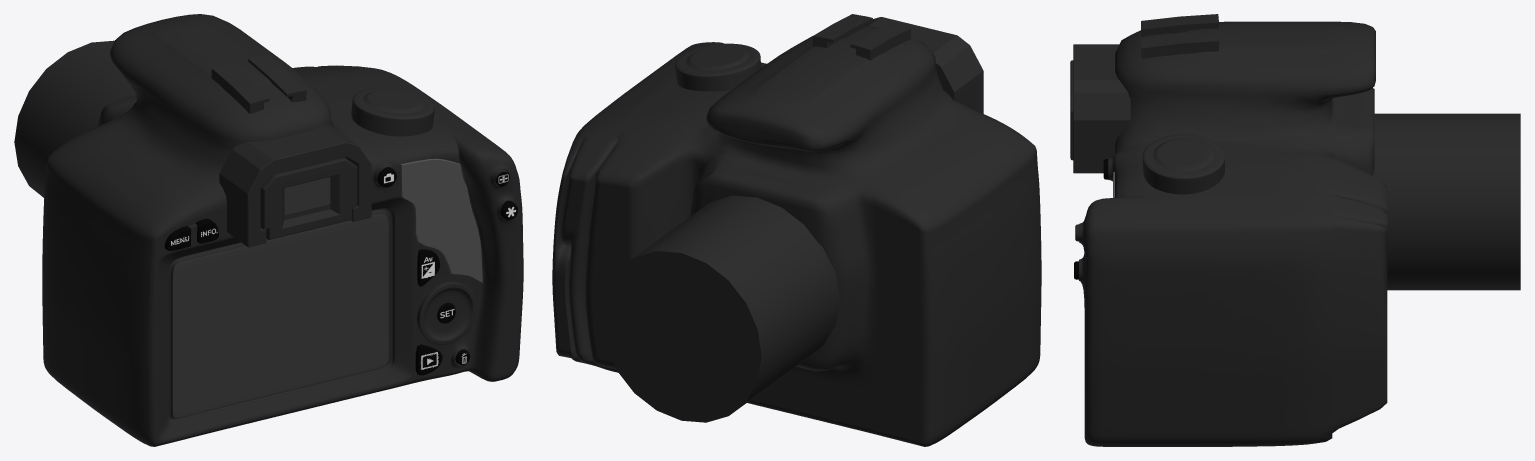
The model's file is camara.fbx.
3 views of the same model, side by side, from view 1: azimuth 30°, elevation 25°; view 2: azimuth 150°, elevation 25°; view 3: azimuth 270°, elevation 25° (orthographic). The views are drawn at different scales.
Parts seen in each view (by area): view 1: pCube1, pCube16, pCylinder2, pCube7, pPlane12, pPlane2, pCylinder9, pCube12, pCylinder8, pPlane13, pCube11, pCube10 (+1 smaller); view 2: pCube1, pCylinder2, pCube7, pCylinder9, pCube12; view 3: pCube1, pCylinder2, pCube7, pCylinder9, pCube12.
Part boxes in pixels (<box>): pCube1: <box>42,14,523,446</box>; pCube16: <box>172,214,388,418</box>; pCylinder2: <box>14,40,136,197</box>; pCube7: <box>219,125,371,247</box>; pPlane12: <box>400,158,482,282</box>; pPlane2: <box>260,157,357,239</box>; pCylinder9: <box>351,87,434,136</box>; pCube12: <box>211,55,306,113</box>; pCylinder8: <box>417,281,476,344</box>; pPlane13: <box>284,177,330,214</box>; pCube11: <box>417,249,440,286</box>; pCube10: <box>415,344,442,375</box>; pCube1: <box>552,26,1041,446</box>; pCylinder2: <box>601,195,840,422</box>; pCube7: <box>866,17,983,113</box>; pCylinder9: <box>675,43,761,91</box>; pCube12: <box>812,14,910,60</box>; pCube1: <box>1079,21,1387,446</box>; pCylinder2: <box>1373,113,1520,290</box>; pCube7: <box>1073,44,1130,173</box>; pCylinder9: <box>1142,134,1224,194</box>; pCube12: <box>1141,14,1218,58</box>.
Size of the model in its own units: 7.49 by 6.2 by 7.85.
